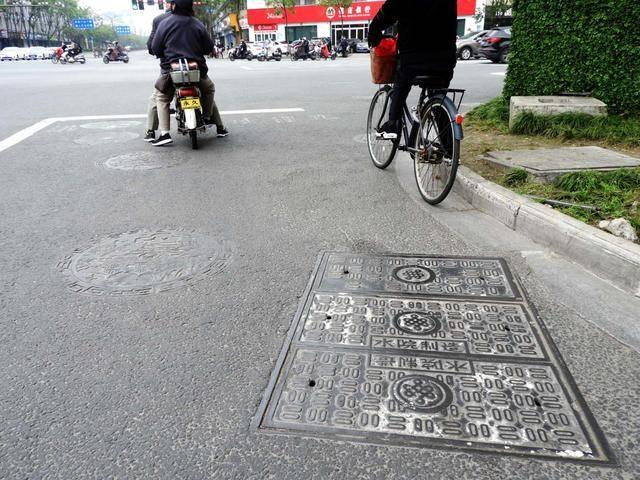wellcover: (255, 226, 628, 479), (72, 214, 238, 306), (91, 136, 191, 180)
